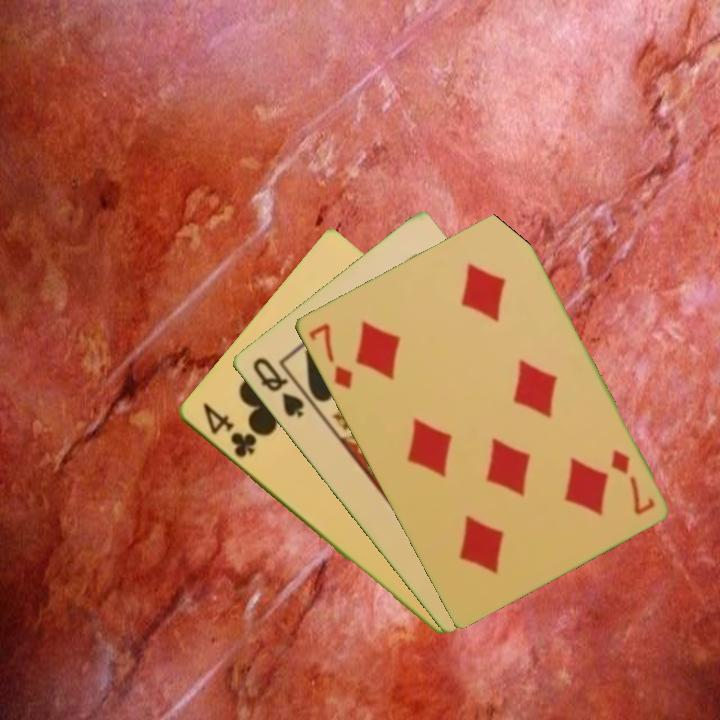4c: (198, 399, 260, 461)
7d: (606, 446, 658, 518), (305, 319, 356, 392)
Qs: (248, 353, 307, 421)
